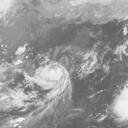cyclone: (35, 62, 70, 99)
